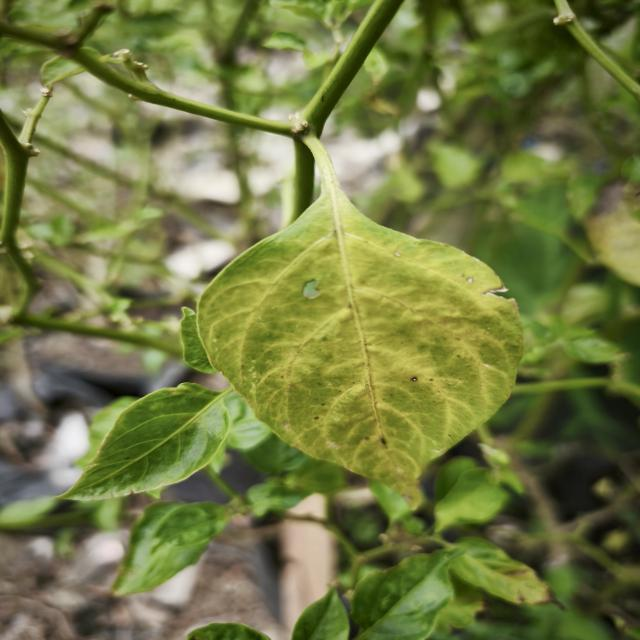Virus Kuning: (188, 184, 526, 511), (65, 380, 232, 504)
